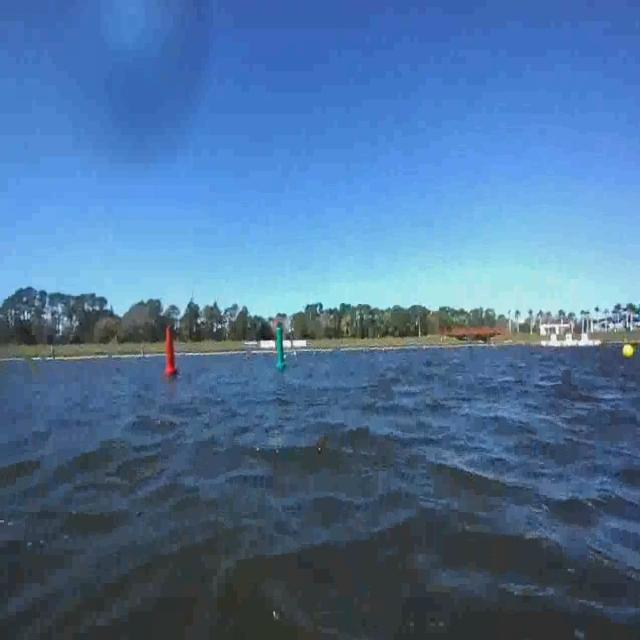green-column-buoy: (275, 326, 288, 369)
red-column-buoy: (163, 325, 179, 377)
yellow-buoy: (623, 342, 635, 360)
